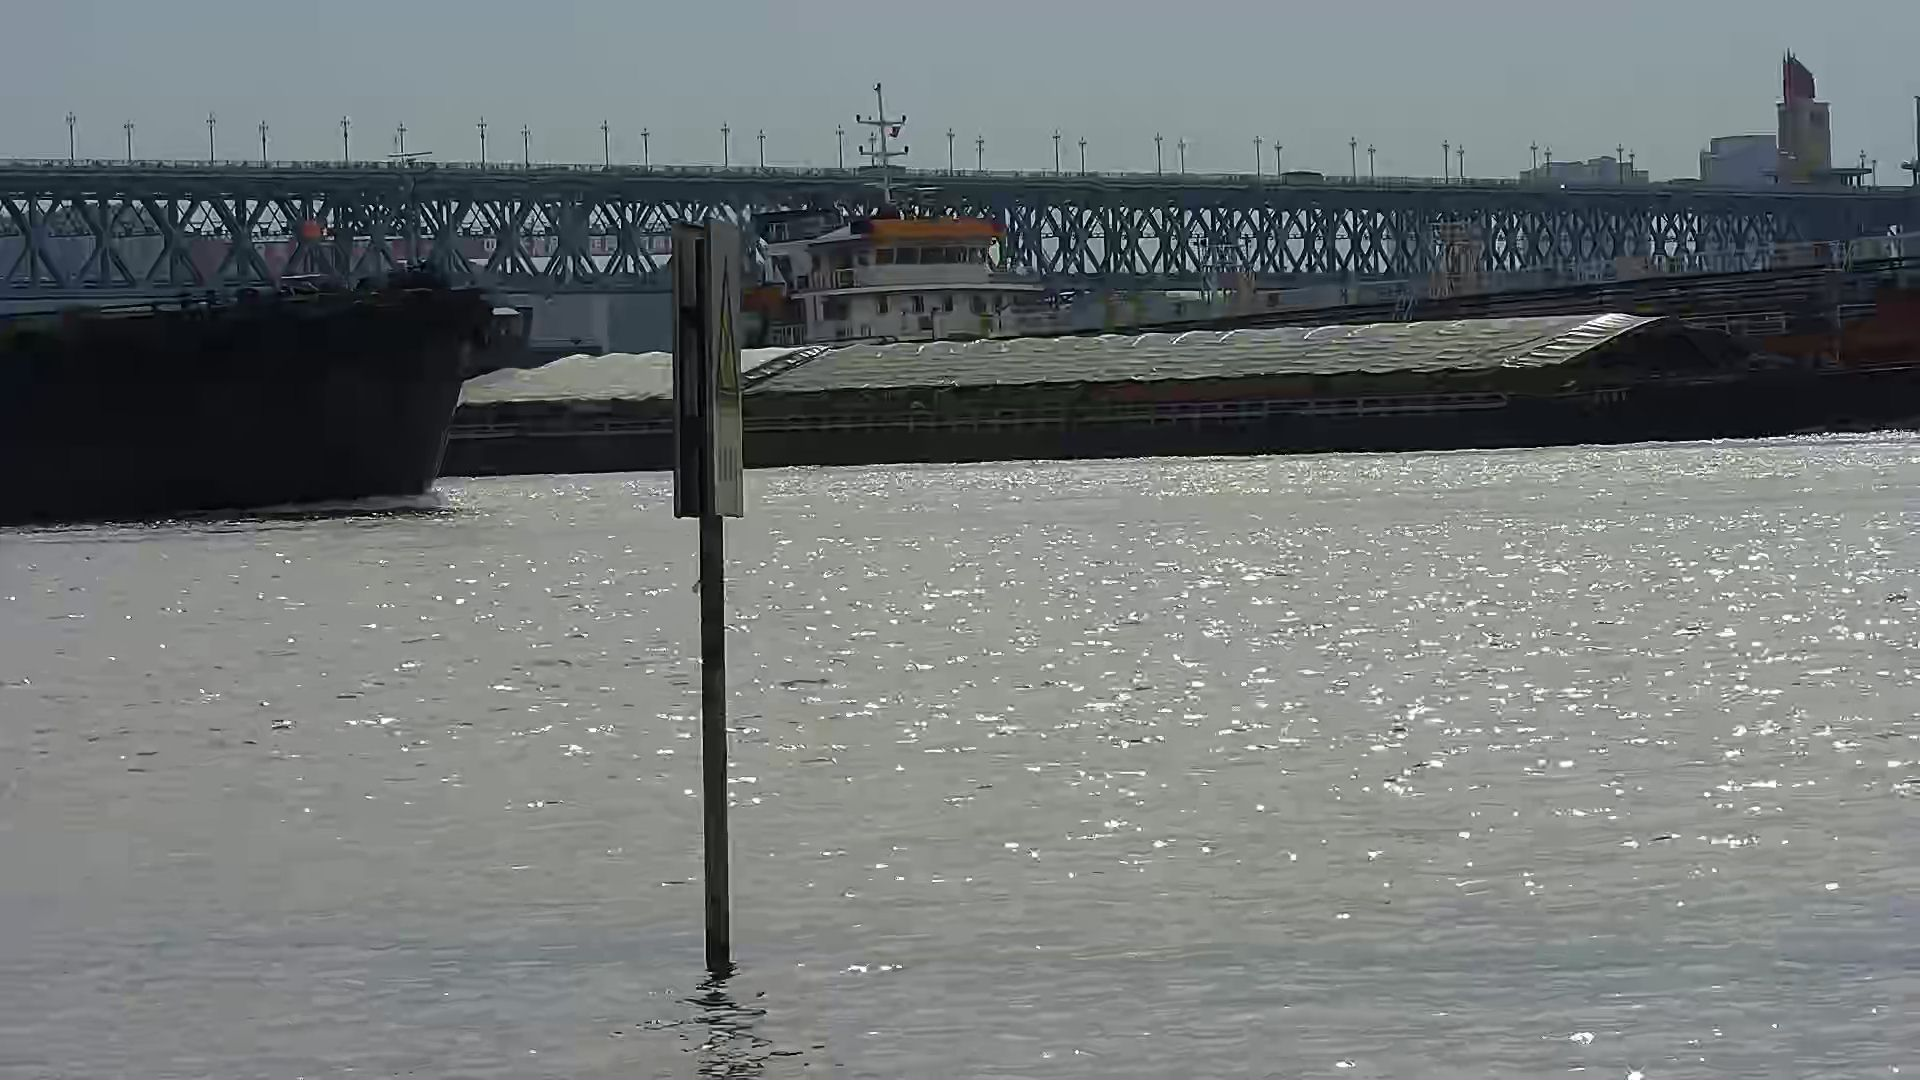bridge: (4, 109, 1920, 294)
mast: (669, 218, 746, 967)
ship: (444, 80, 1920, 477), (3, 270, 488, 521)
